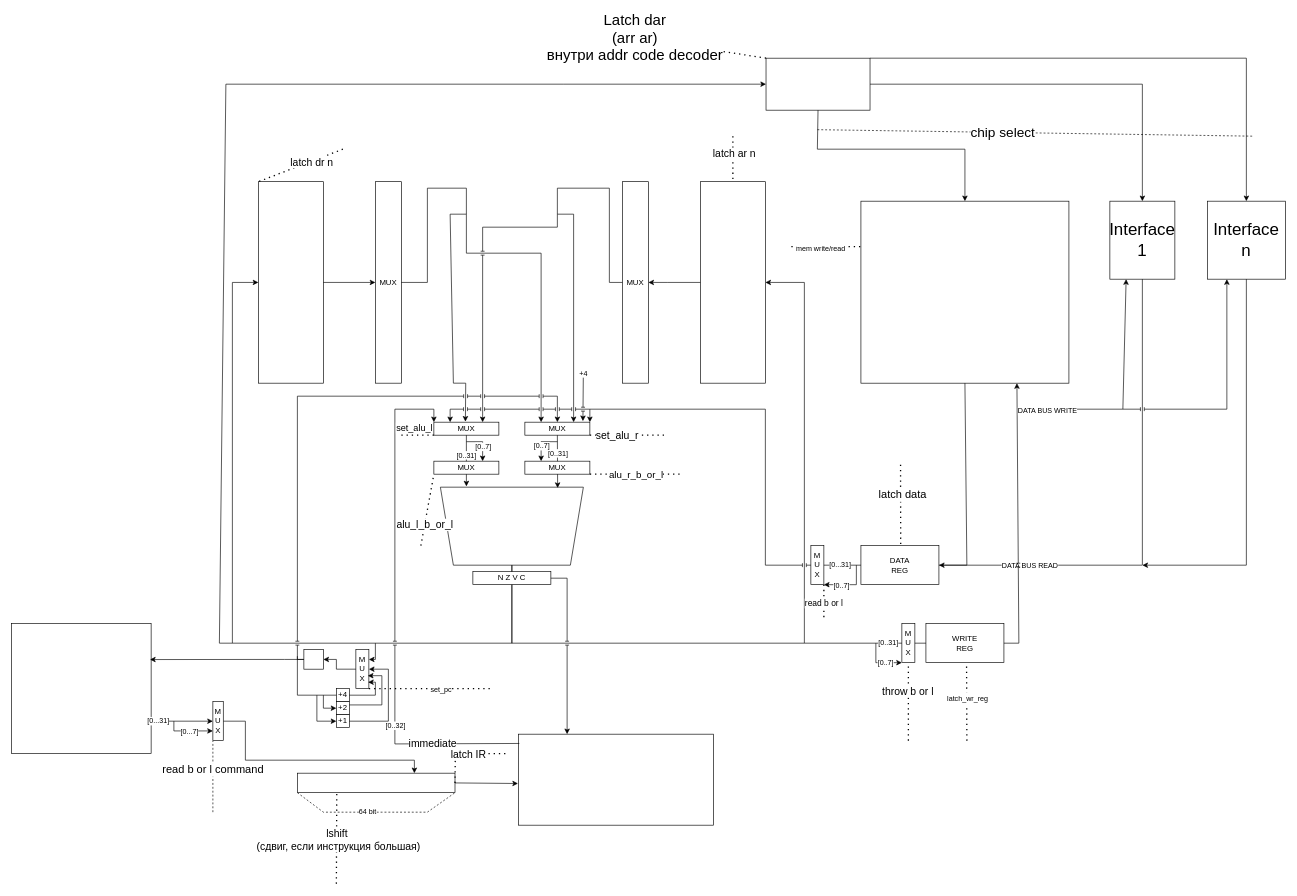
Image size: 1297x896. Some labels were removed from this diagram. Here are the shapes that lost their labels. From the top down, the centre of each, then its label:
At point 817,84: "Addr Code Decoder".
At point 290,282: "DR 0...7".
At point 732,282: "AR 0...7".
At point 964,292: "Data memory".
At point 511,526: "ALU".
At point 313,659: "PC".
At point 81,688: "instruction memory".
At point 376,783: "IR".
At point 615,779: "CONTROL UNIT".
